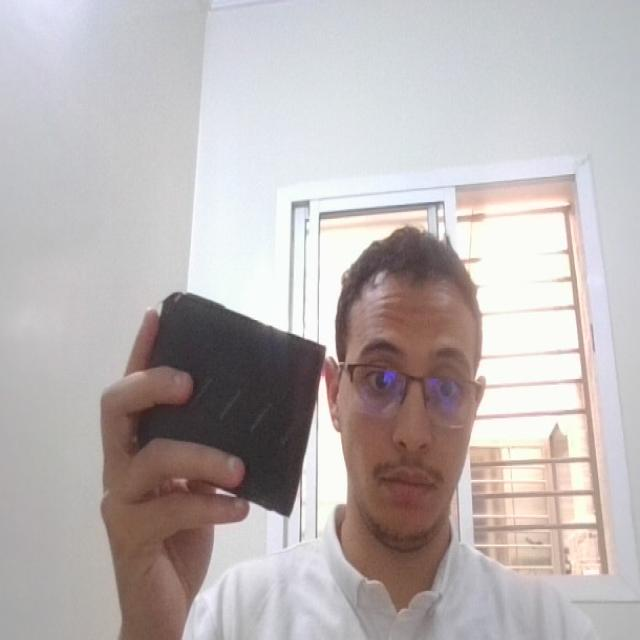wallet: (129, 274, 332, 520)
